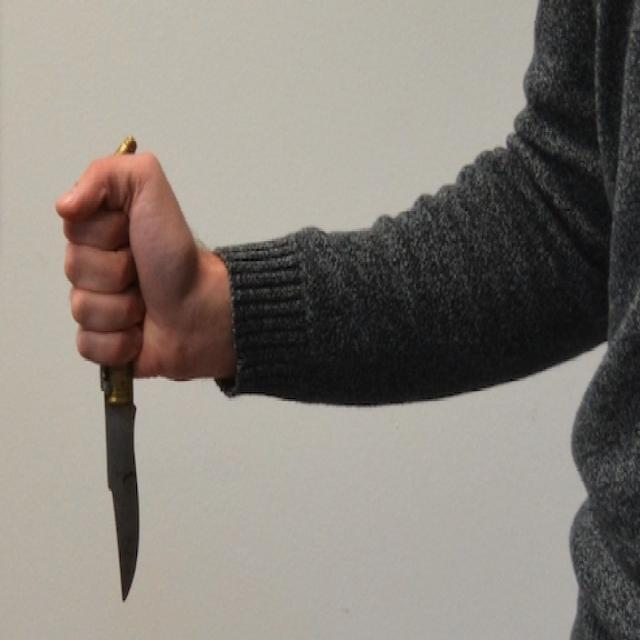suspicion: (47, 6, 624, 615), (96, 367, 144, 610)
